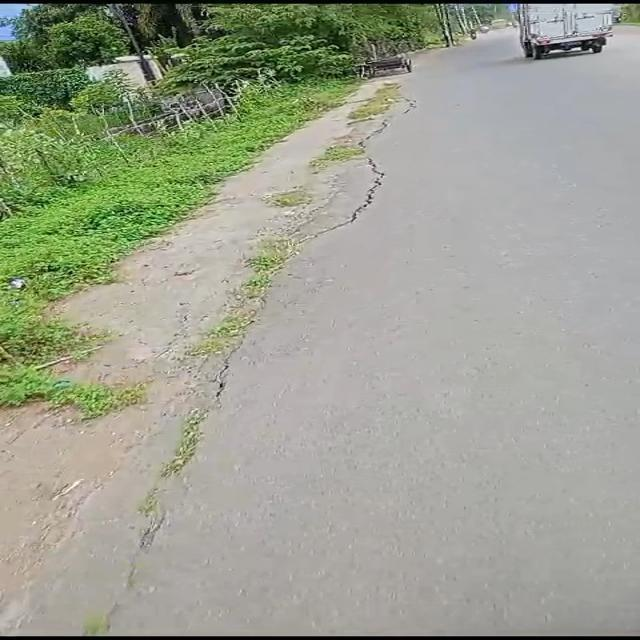Pinggir: (64, 139, 395, 367)
